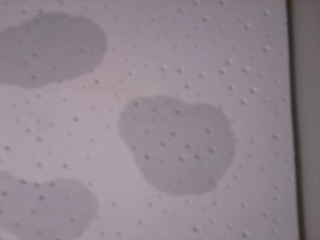Water_detected: (125, 103, 212, 192), (16, 15, 95, 77), (17, 179, 85, 235)
